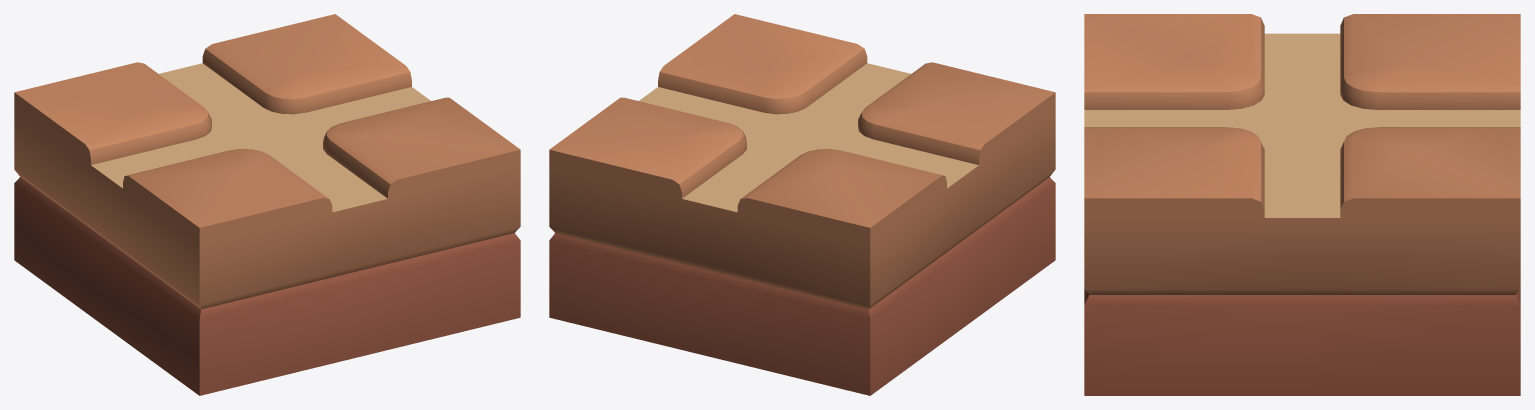
The model's file is square_rock_roadE_detail.glb.
3 renders of one model, left to right at view 1: azimuth 30°, elevation 25°; view 2: azimuth 150°, elevation 25°; view 3: azimuth 270°, elevation 25°, orthographic. The views are drawn at different scales.
Visible parts, largest first — view 1: square_rock_roadE_detail; view 2: square_rock_roadE_detail; view 3: square_rock_roadE_detail.
Part boxes in pixels (bbox=[...]): square_rock_roadE_detail: bbox=[14, 14, 520, 395]; square_rock_roadE_detail: bbox=[549, 14, 1055, 395]; square_rock_roadE_detail: bbox=[1084, 14, 1520, 395].
Bounding box in the file's own units: 2.4 × 1.2 × 2.4.
